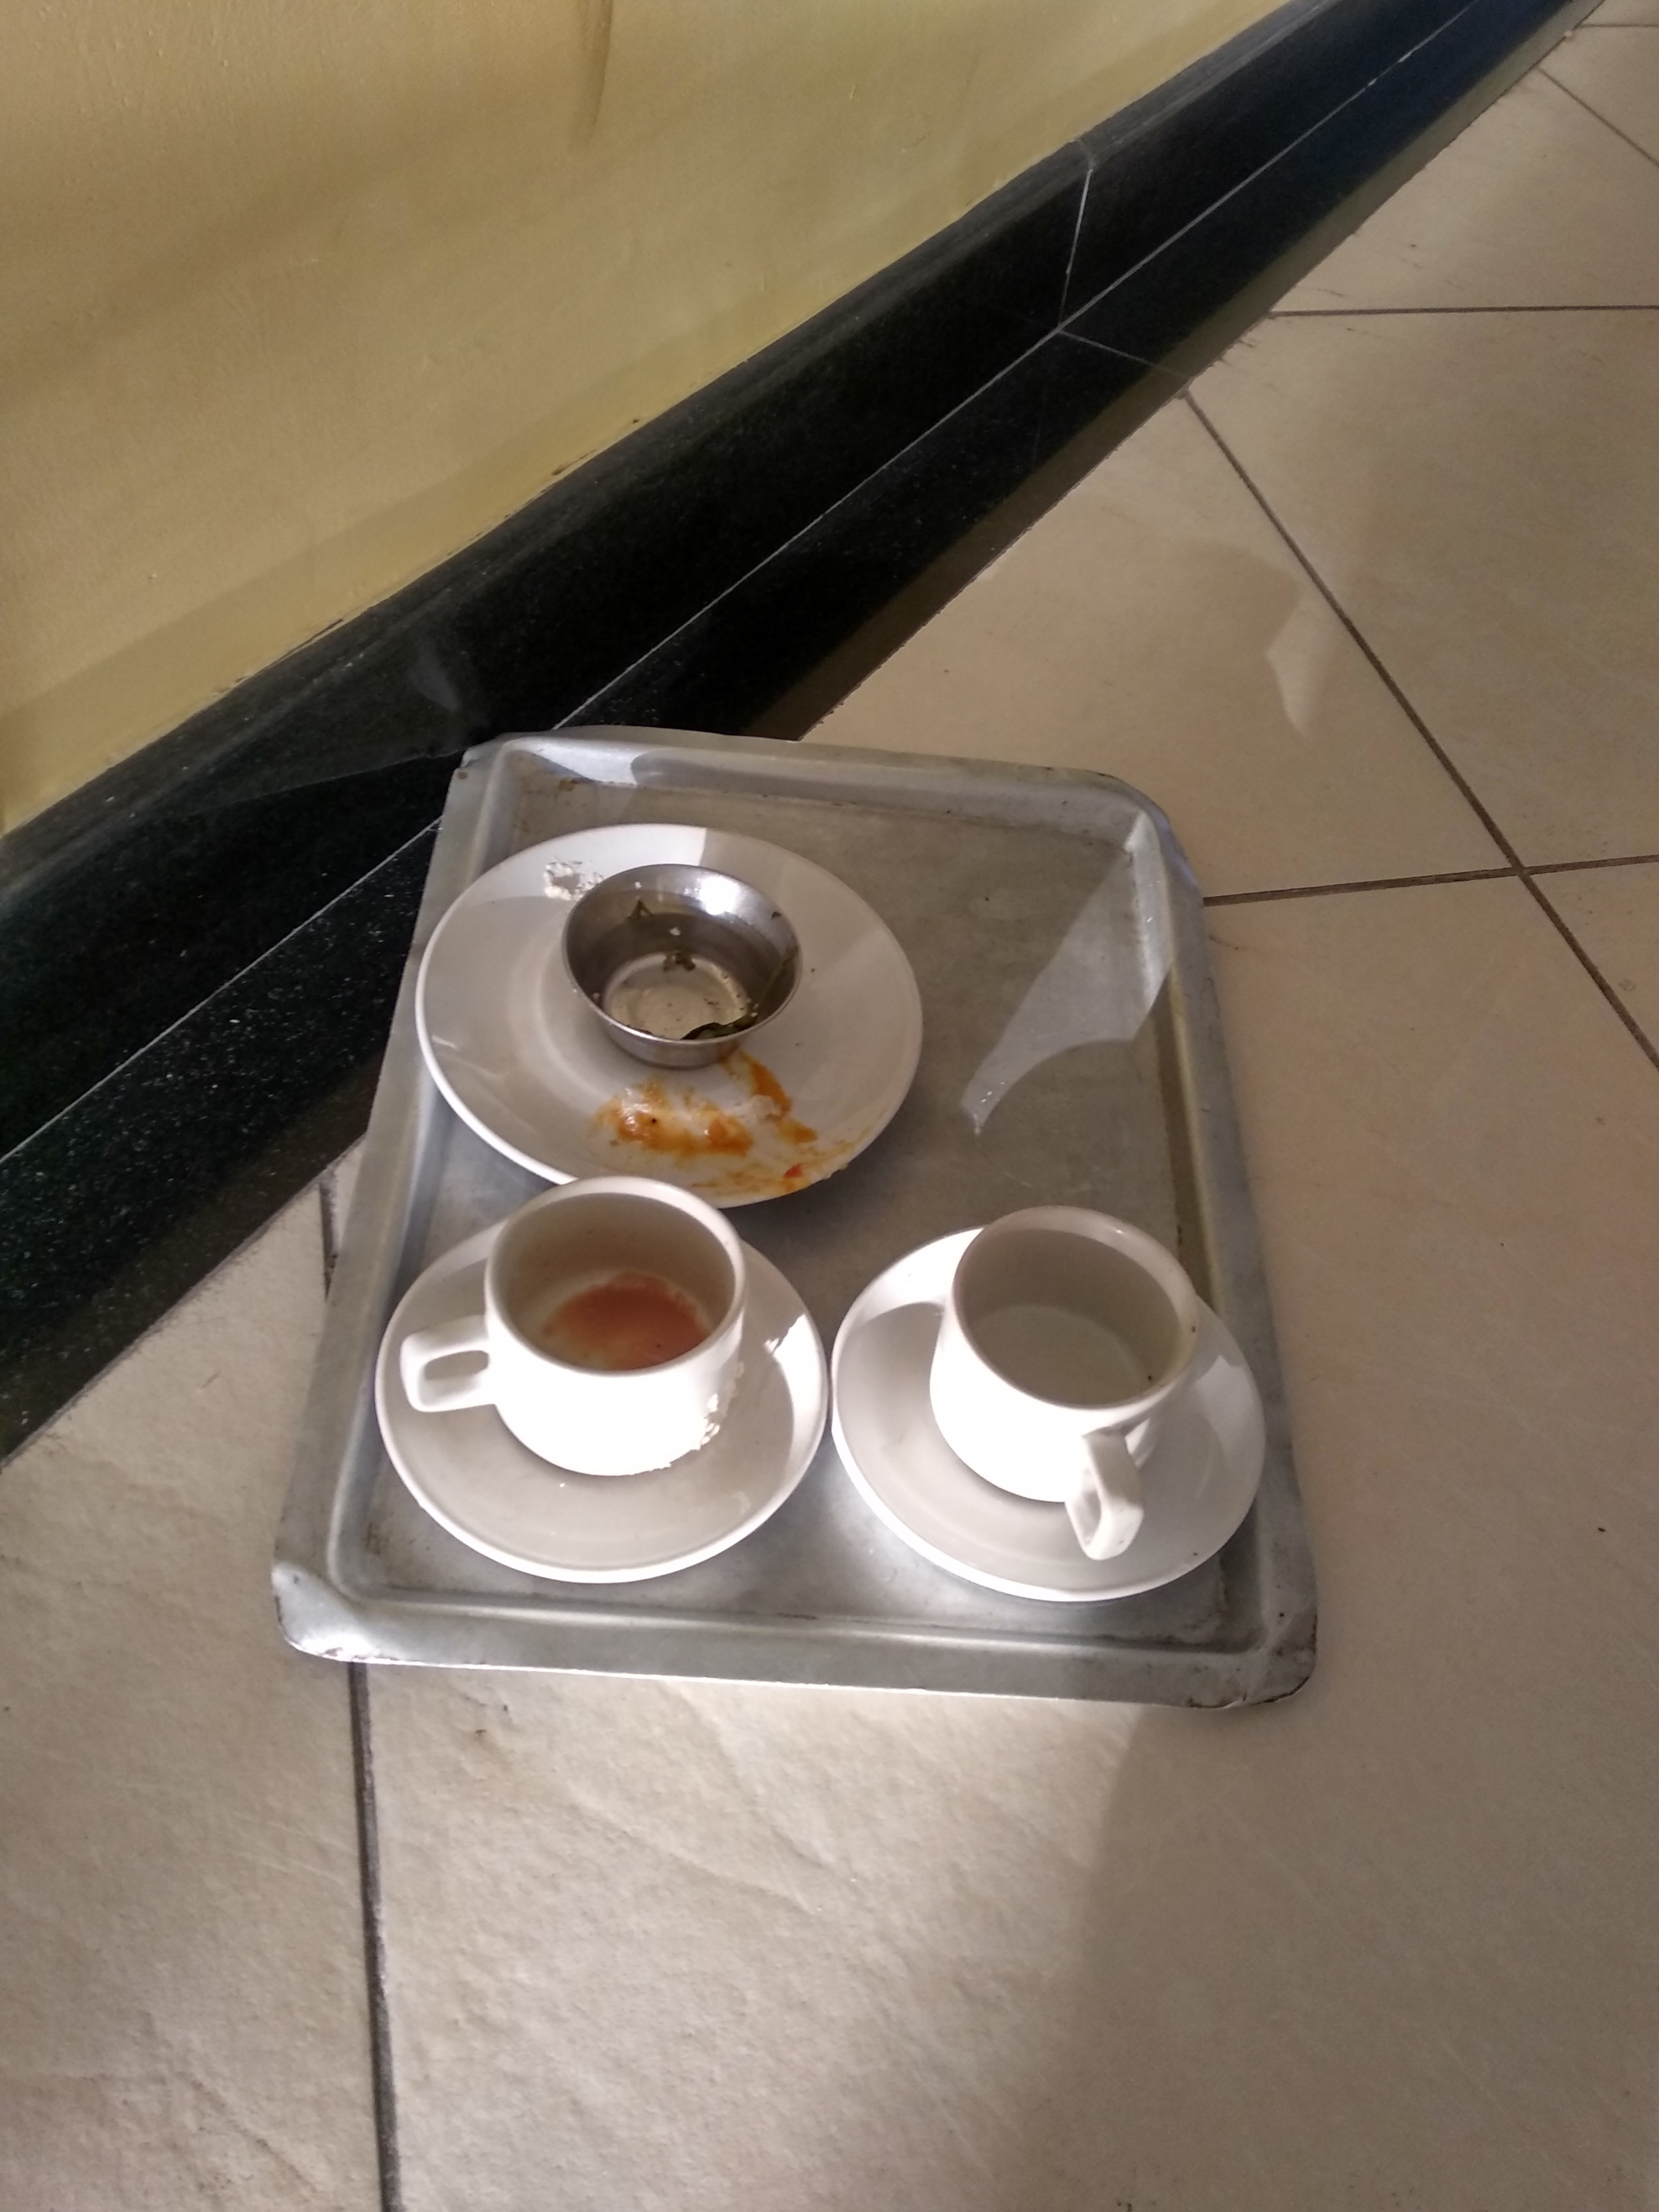CUP: (404, 1167, 784, 1517), (924, 1198, 1229, 1580), (556, 862, 810, 1083)
